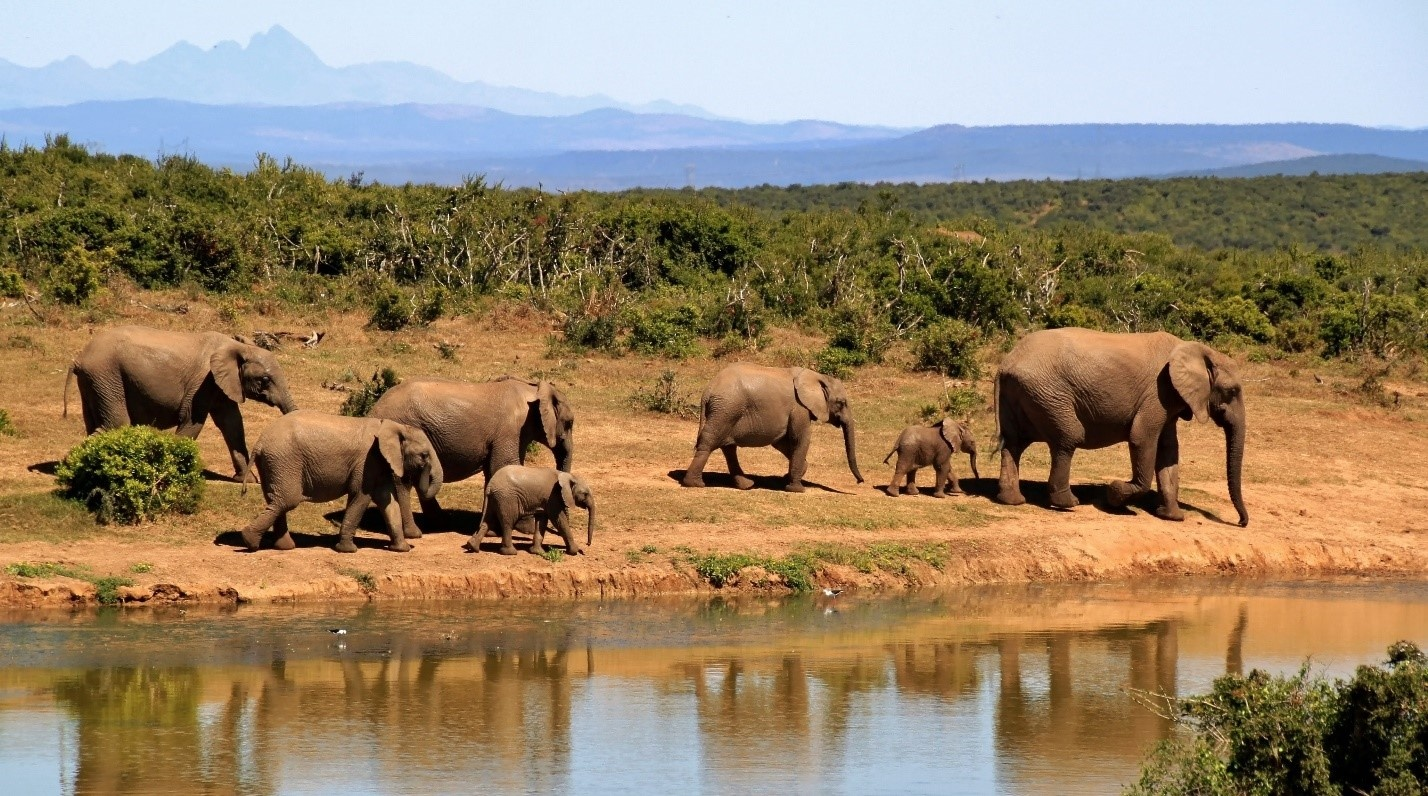elephant: (988, 326, 1255, 532), (57, 322, 301, 489), (244, 410, 446, 568), (363, 371, 580, 509), (672, 352, 868, 494), (466, 461, 606, 560), (880, 411, 983, 499)
